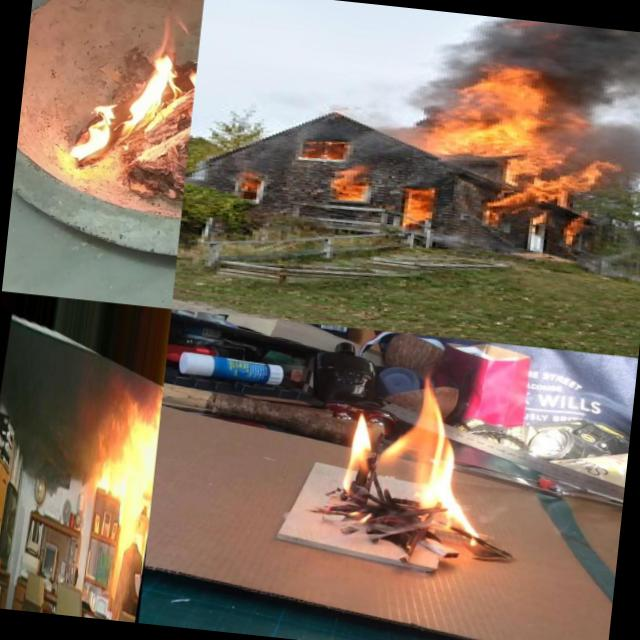fire: (330, 370, 499, 550), (59, 35, 198, 184), (90, 381, 162, 537), (447, 63, 546, 162), (490, 146, 609, 218), (324, 163, 378, 207), (398, 184, 438, 228), (231, 171, 267, 199), (554, 219, 586, 250), (477, 210, 510, 233)
smoke: (433, 11, 640, 90), (545, 77, 640, 160), (344, 120, 438, 170), (391, 61, 454, 131), (104, 532, 139, 620)
